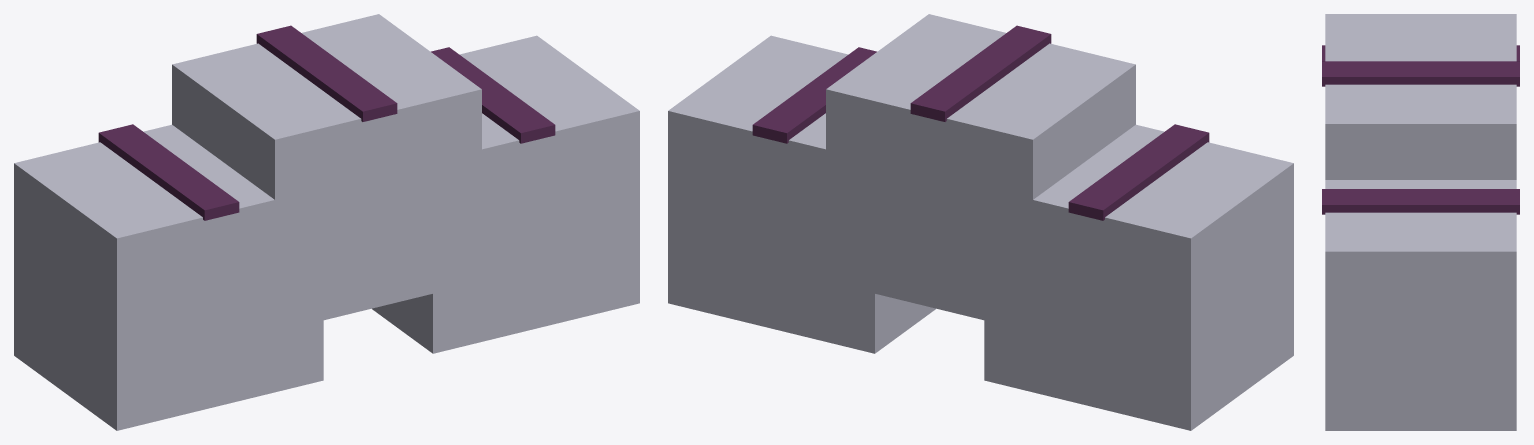
File: cardboard-boxes.obj
3 renders of one model, left to right at view 1: azimuth 30°, elevation 25°; view 2: azimuth 150°, elevation 25°; view 3: azimuth 270°, elevation 25°, orthographic. The views are drawn at different scales.
Parts seen in each view (by area): view 1: cardboard-box-1, cardboard-box-2, cardboard-box-3, tape-strip-1, tape-strip-2, tape-strip-3; view 2: cardboard-box-1, cardboard-box-2, cardboard-box-3, tape-strip-1, tape-strip-2, tape-strip-3; view 3: cardboard-box-3, cardboard-box-2, tape-strip-2, tape-strip-3, cardboard-box-1.
Boxes of the visible parts, left/top/right/bottom form: cardboard-box-1: left=14, top=124, right=323, bottom=430; cardboard-box-2: left=172, top=14, right=481, bottom=331; cardboard-box-3: left=372, top=35, right=639, bottom=353; tape-strip-1: left=98, top=124, right=239, bottom=220; tape-strip-2: left=256, top=25, right=397, bottom=121; tape-strip-3: left=431, top=47, right=555, bottom=143; cardboard-box-1: left=984, top=124, right=1293, bottom=430; cardboard-box-2: left=826, top=14, right=1135, bottom=331; cardboard-box-3: left=668, top=35, right=935, bottom=353; tape-strip-1: left=1068, top=124, right=1209, bottom=220; tape-strip-2: left=910, top=25, right=1051, bottom=121; tape-strip-3: left=752, top=47, right=876, bottom=143; cardboard-box-3: left=1325, top=180, right=1516, bottom=430; cardboard-box-2: left=1325, top=29, right=1516, bottom=179; tape-strip-2: left=1322, top=61, right=1519, bottom=86; tape-strip-3: left=1322, top=189, right=1519, bottom=214; cardboard-box-1: left=1325, top=14, right=1516, bottom=29.
Bounding box in the file's own units: 1.82 × 0.8675 × 0.64.
